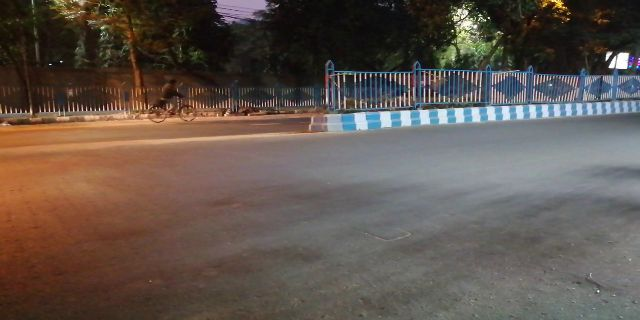Cycle: (146, 80, 200, 122)
